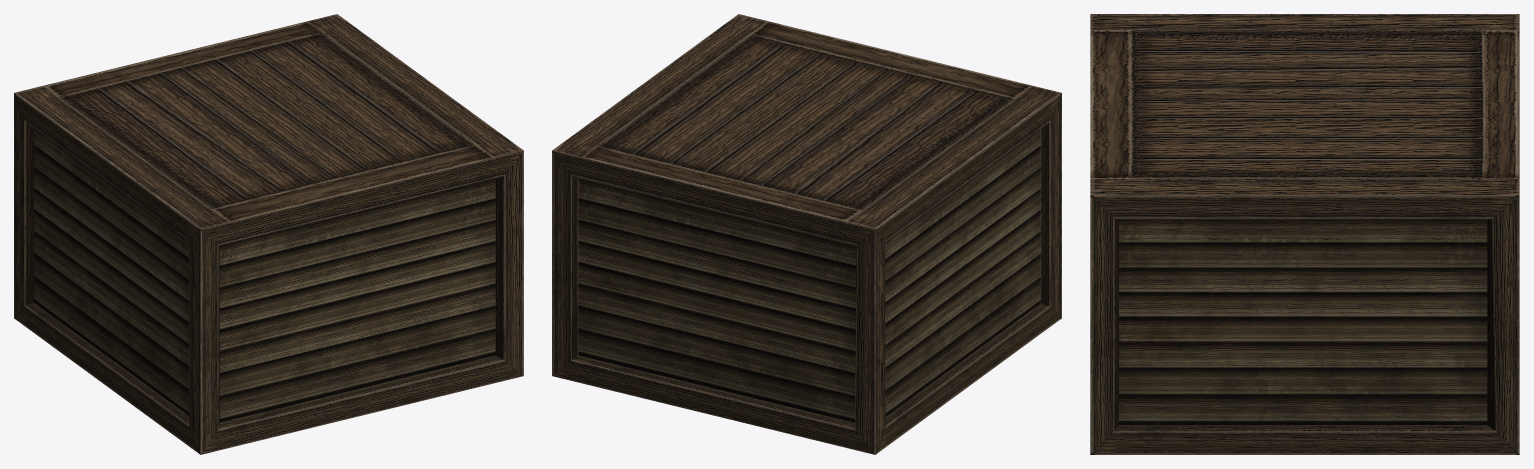
Rendered from House_6X6_05c.fbx.
3 renders of one model, left to right at view 1: azimuth 30°, elevation 25°; view 2: azimuth 150°, elevation 25°; view 3: azimuth 270°, elevation 25°, orthographic. The views are drawn at different scales.
Parts seen in each view (by area): view 1: House_6X6_05c; view 2: House_6X6_05c; view 3: House_6X6_05c.
Part boxes in pixels (x1,y1,x2,y2): House_6X6_05c: [14, 14, 523, 454]; House_6X6_05c: [552, 14, 1061, 454]; House_6X6_05c: [1090, 14, 1519, 454].
Size of the model in its own units: 6 by 4 by 6.
